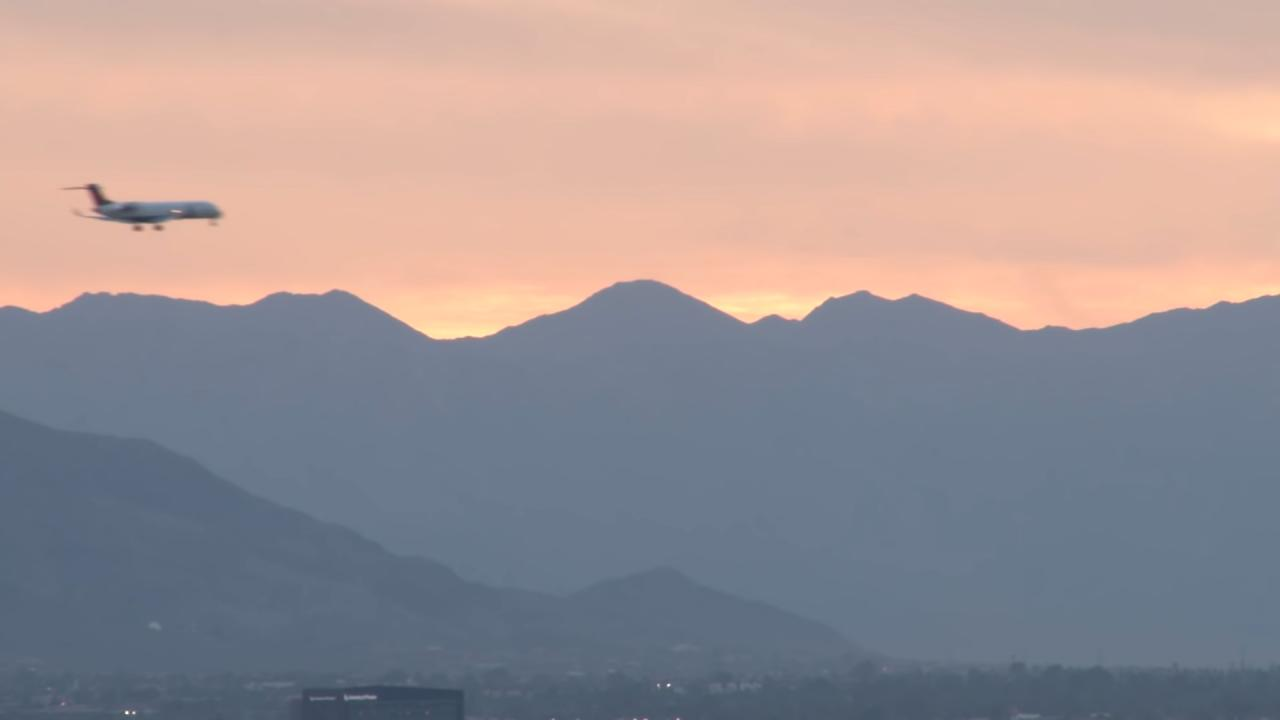Airplane: (52, 169, 237, 251)
